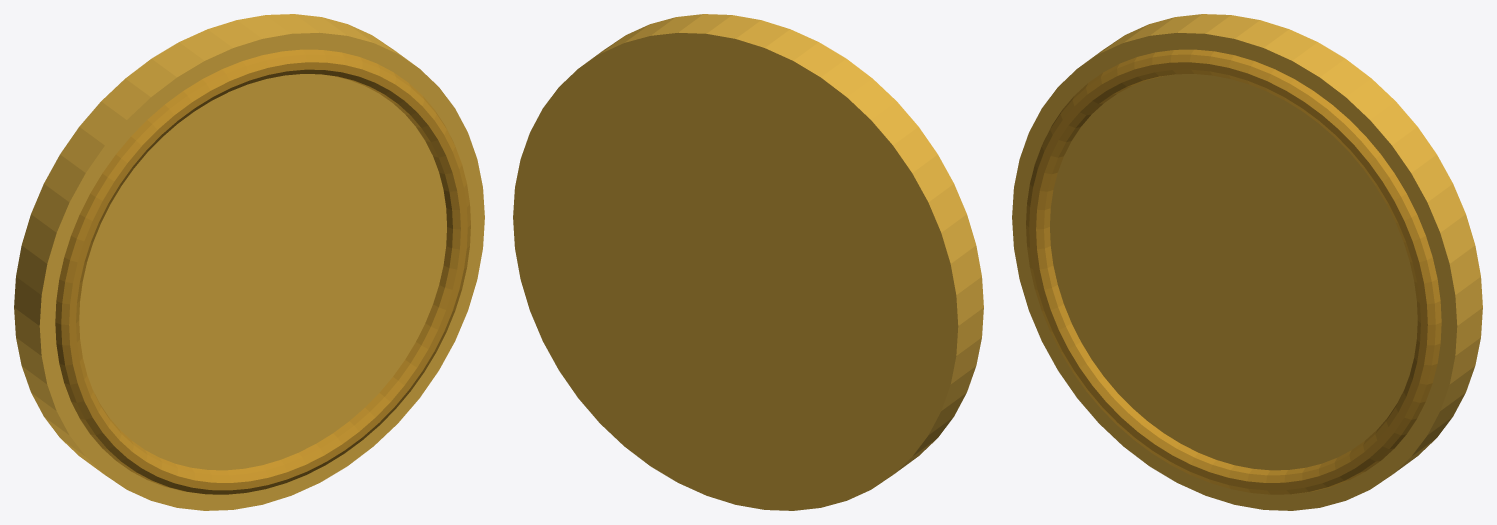
File: moneda.glb
3 views of the same model, side by side, from view 1: azimuth 30°, elevation 25°; view 2: azimuth 150°, elevation 25°; view 3: azimuth 330°, elevation 25° (orthographic).
Visible parts, largest first — view 1: Cylinder, Torus.002; view 2: Cylinder; view 3: Cylinder, Torus.002.
Part boxes in pixels (<box>): Cylinder: <box>14,14,484,510</box>; Torus.002: <box>55,49,470,494</box>; Cylinder: <box>513,14,983,510</box>; Cylinder: <box>1012,14,1482,510</box>; Torus.002: <box>1026,49,1441,494</box>.
Size of the model in its own units: 1 by 1 by 0.1238.
